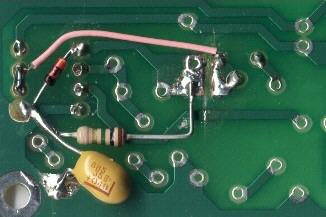resistor: (75, 126, 127, 148)
